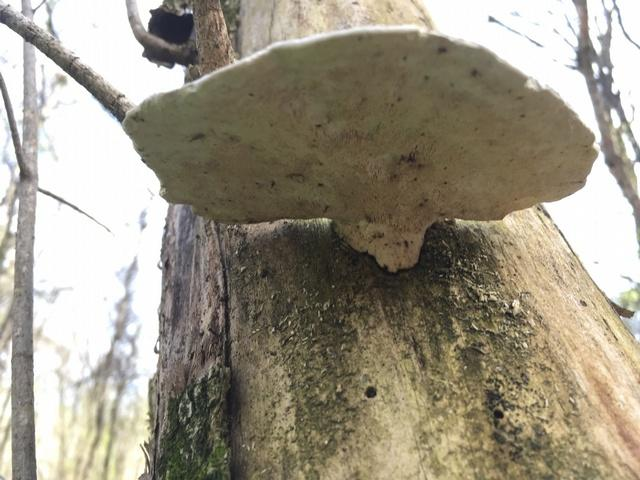poisonous_mushroom: (120, 24, 600, 274)
